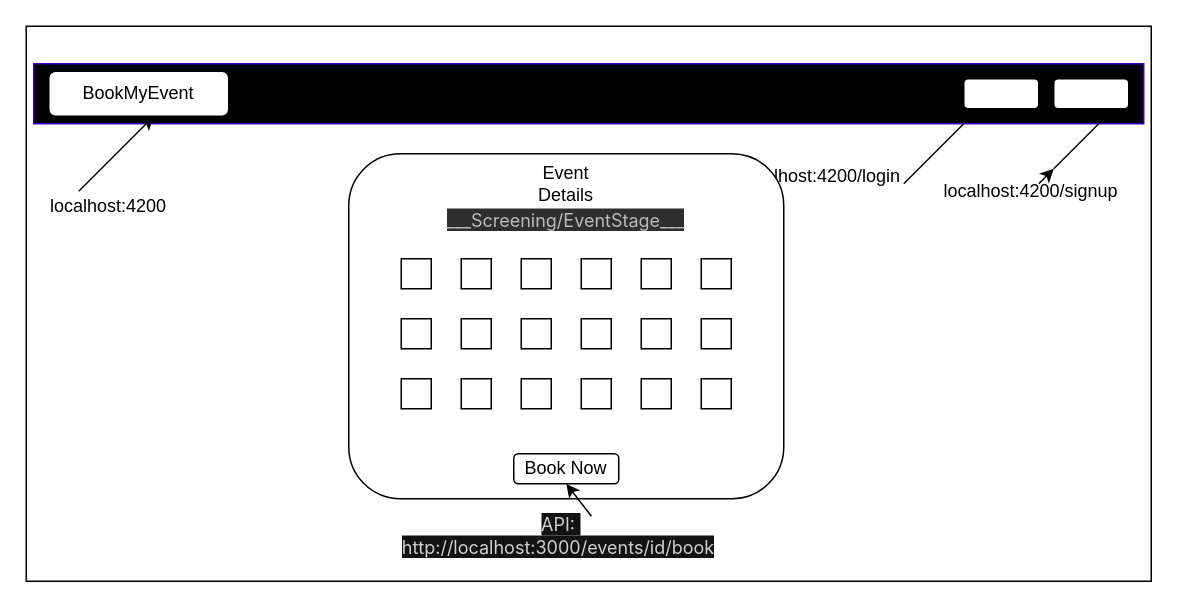
Image size: 1178x608. Some labels were removed from this diagram. Here are the shapes that lost their labels. From the top down, the centre of each, then its label:
At [1000,93]: "Login".
At [1090,93]: "SignUp".
